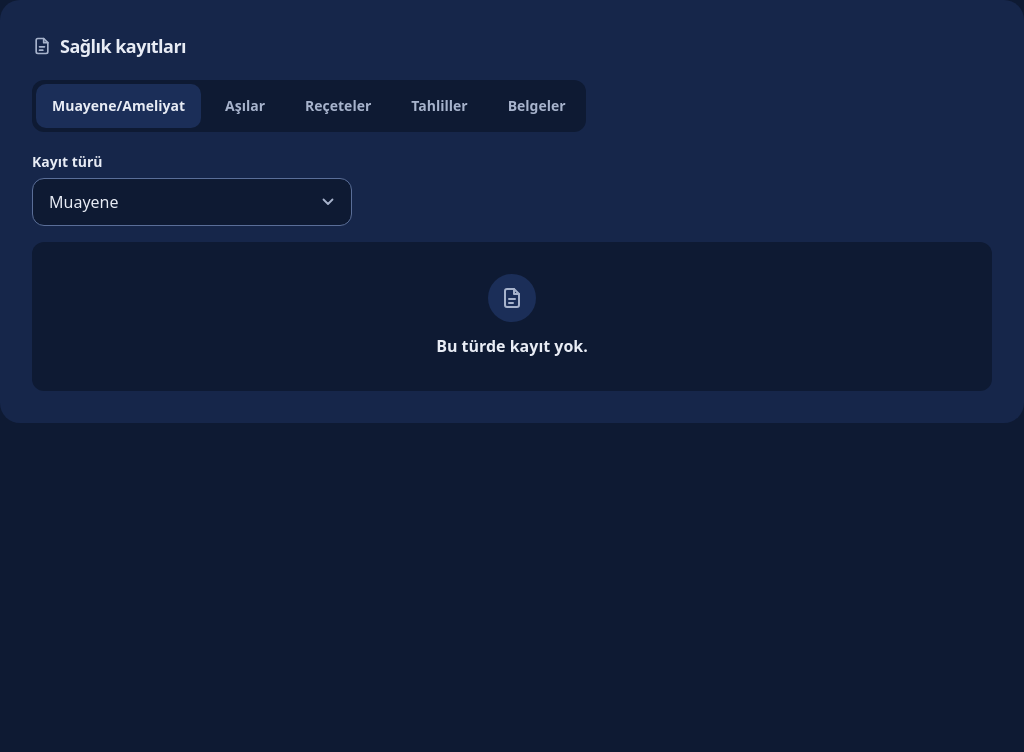
Scenario: Tahlil açıklaması › sayfadaki satırları kayda göre gruplar ve her grup için açıklama ister
Click the tab "Tahliller".
click(440, 106)  # box [395,84,484,128]
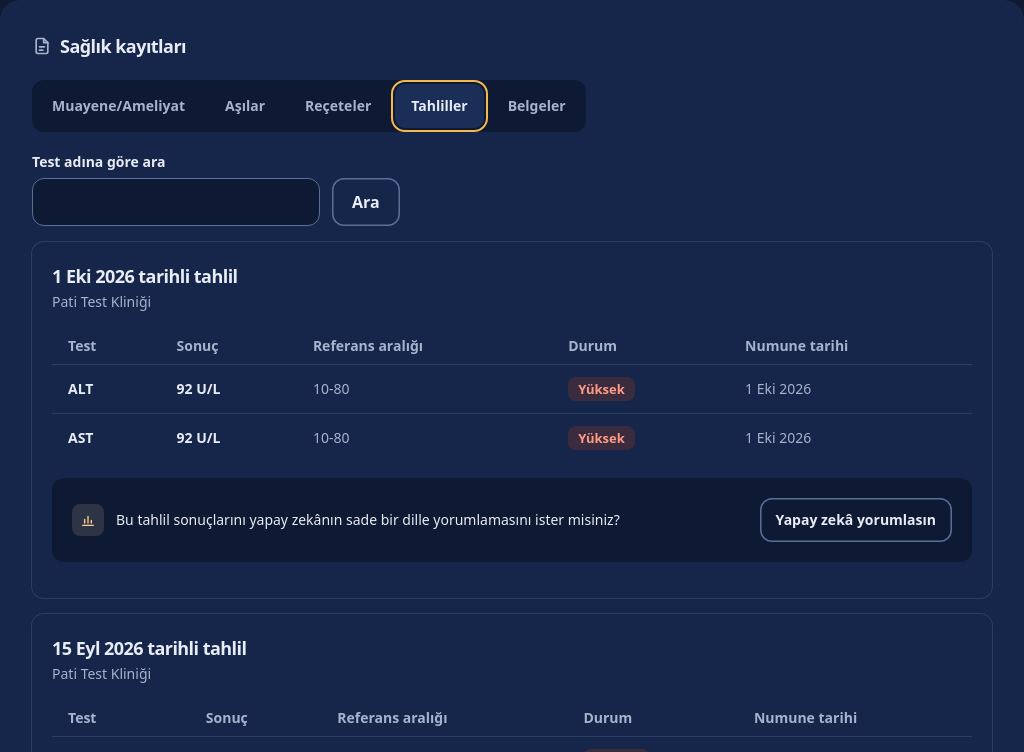
Check: the headings read "1 Eki 2026 tarihli tahlil", "15 Eyl 2026 tarihli tahlil", in this order, box [52,264,238,288]; [52,636,246,660]
Check: the number of buttons "Yapay zekâ yorumlasın" is 2
Check: the text "Pati Test Kliniği" is shown 2 times, box [52,292,151,311]; [52,664,151,683]
